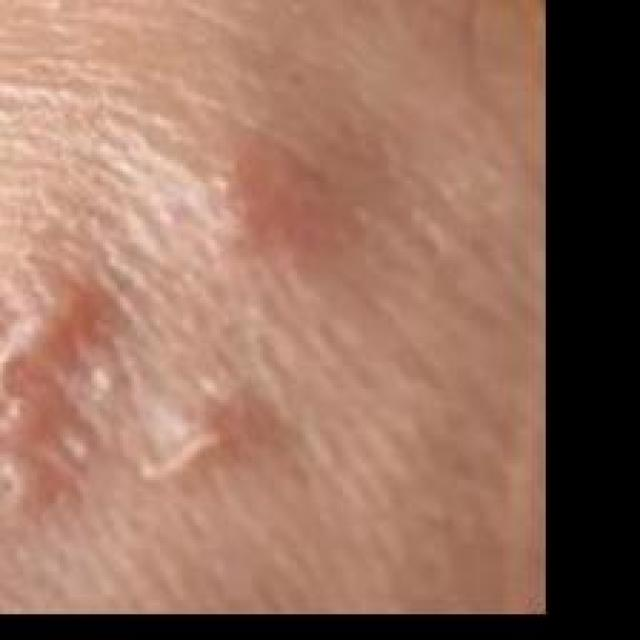monkeypox: (0, 80, 313, 612)
